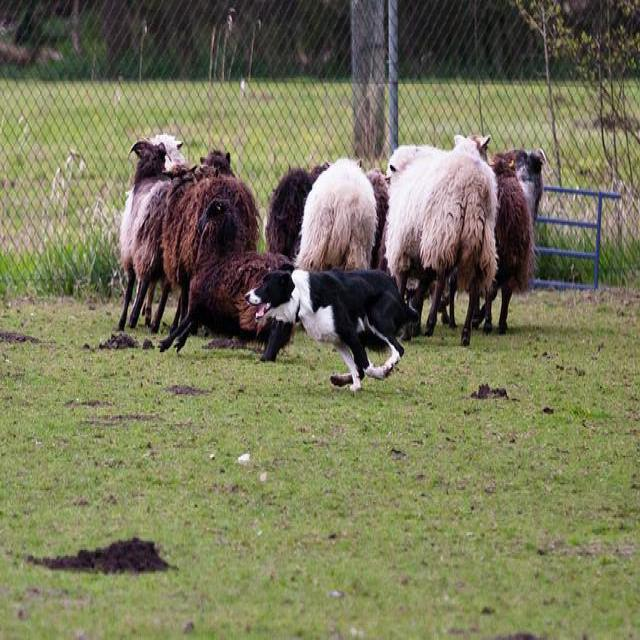Sheep: (117, 138, 236, 336), (158, 201, 296, 364), (393, 153, 499, 346), (163, 162, 264, 336), (297, 156, 376, 277), (387, 148, 460, 276), (492, 151, 539, 333), (264, 163, 323, 255), (512, 147, 547, 226)
